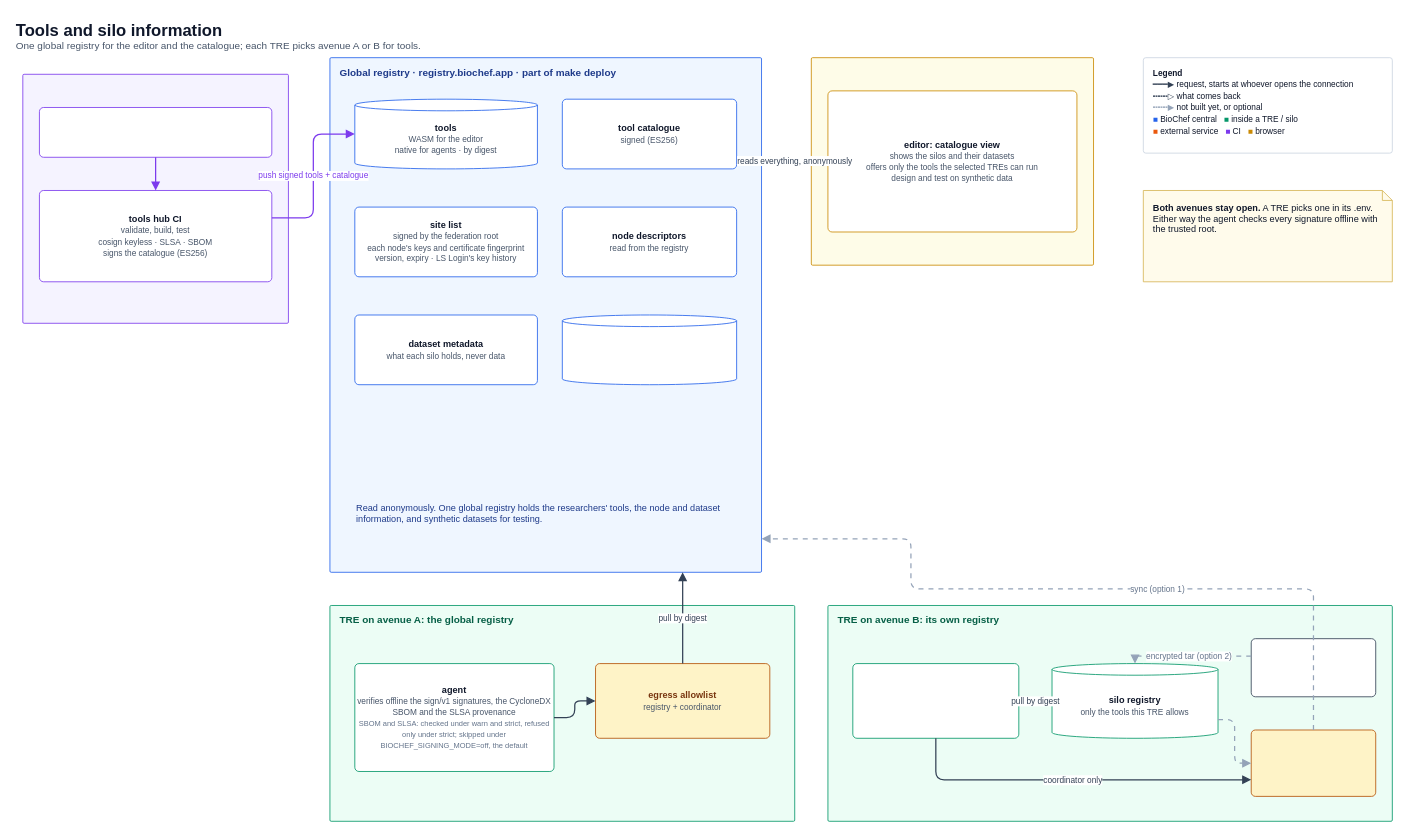
Image size: 1407x836. Some labels were removed from this diagram. The box of each missing label's shape, as (x1, y1, x2, y2) in pixels:
agent verifies offline, the same way: (852, 663, 1019, 738)
biochef-recipes merge to the default branch: (39, 107, 272, 157)
Browser: (810, 57, 1094, 265)
egress coordinator, and the sync: (1250, 729, 1376, 796)
GitHub: (22, 73, 288, 323)
operator encrypted tar: (1250, 638, 1376, 697)
synthetic datasets for designing and testing workflows: (561, 314, 737, 385)
